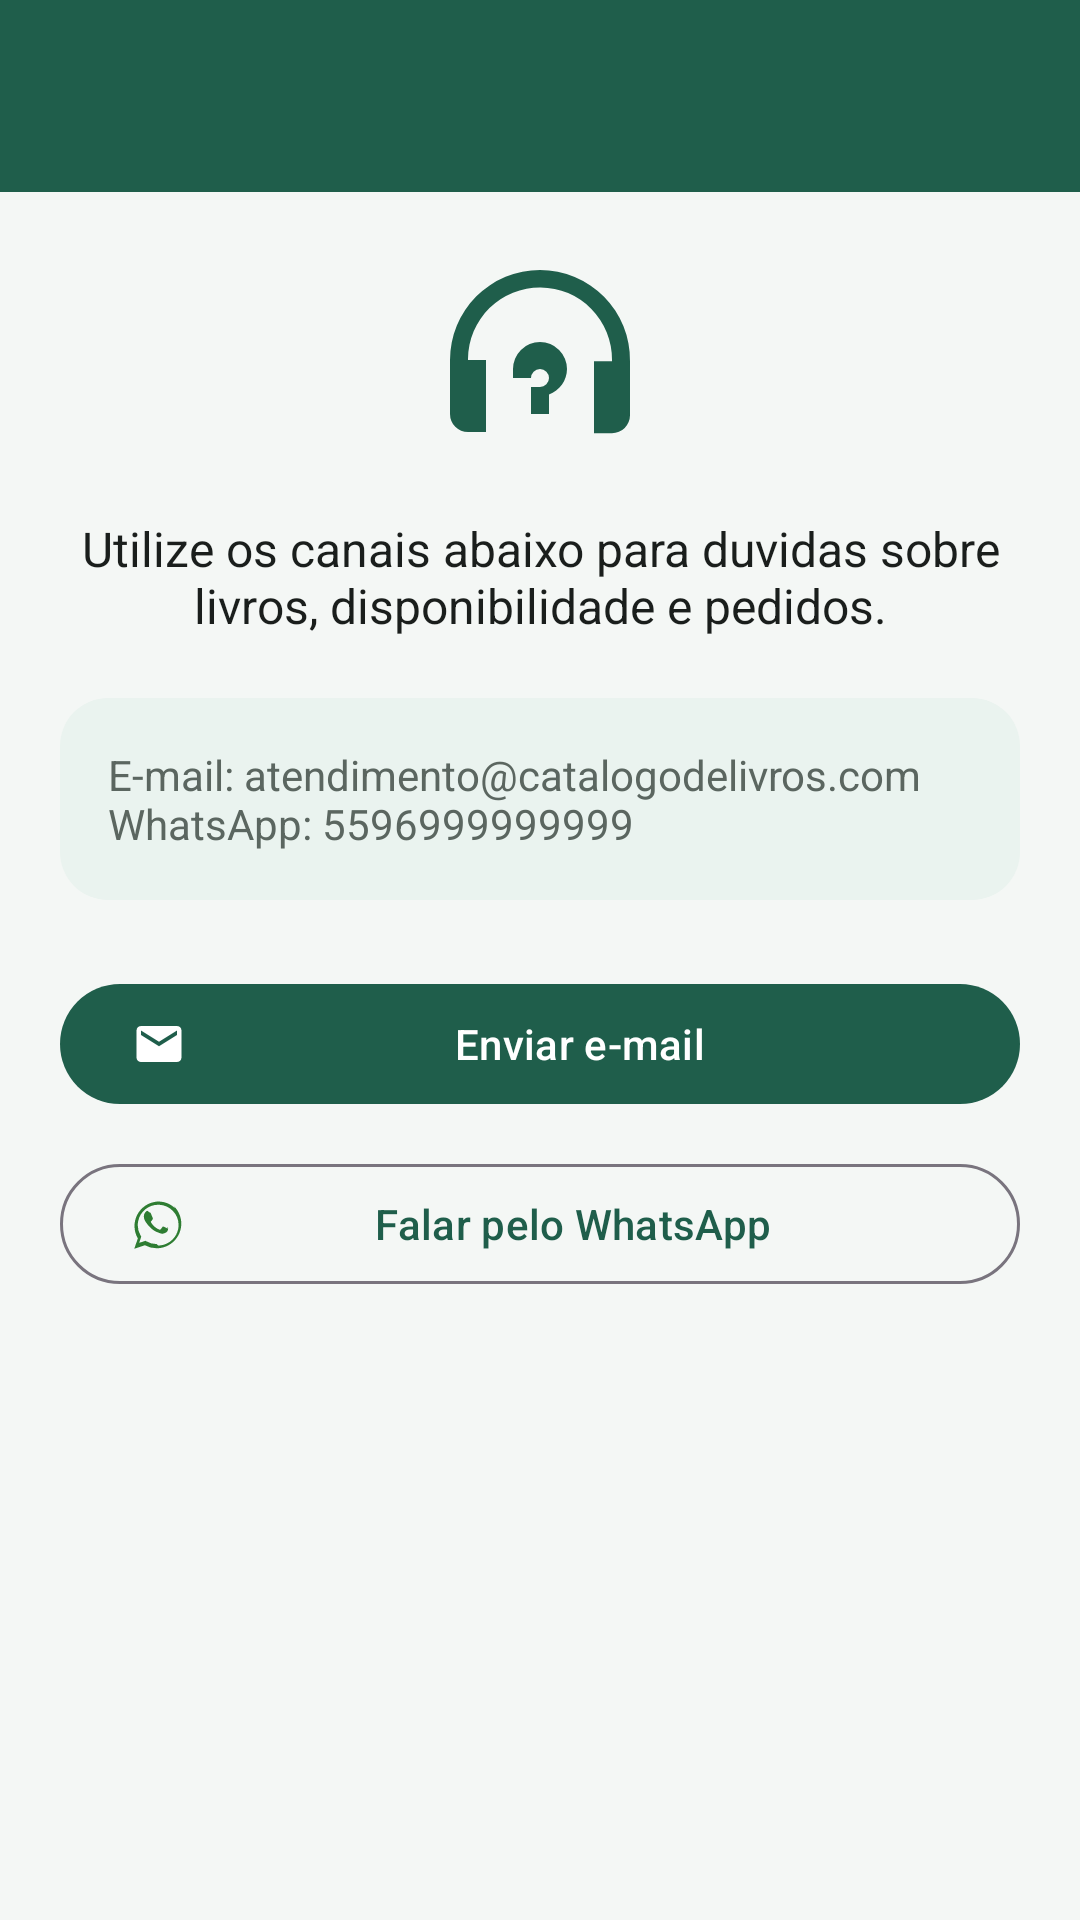

Icon bounding boxes for this 1080×1920 phone screenshot, format region(x1, y1, x2, y2):
Atendimento: region(450, 270, 630, 434)
